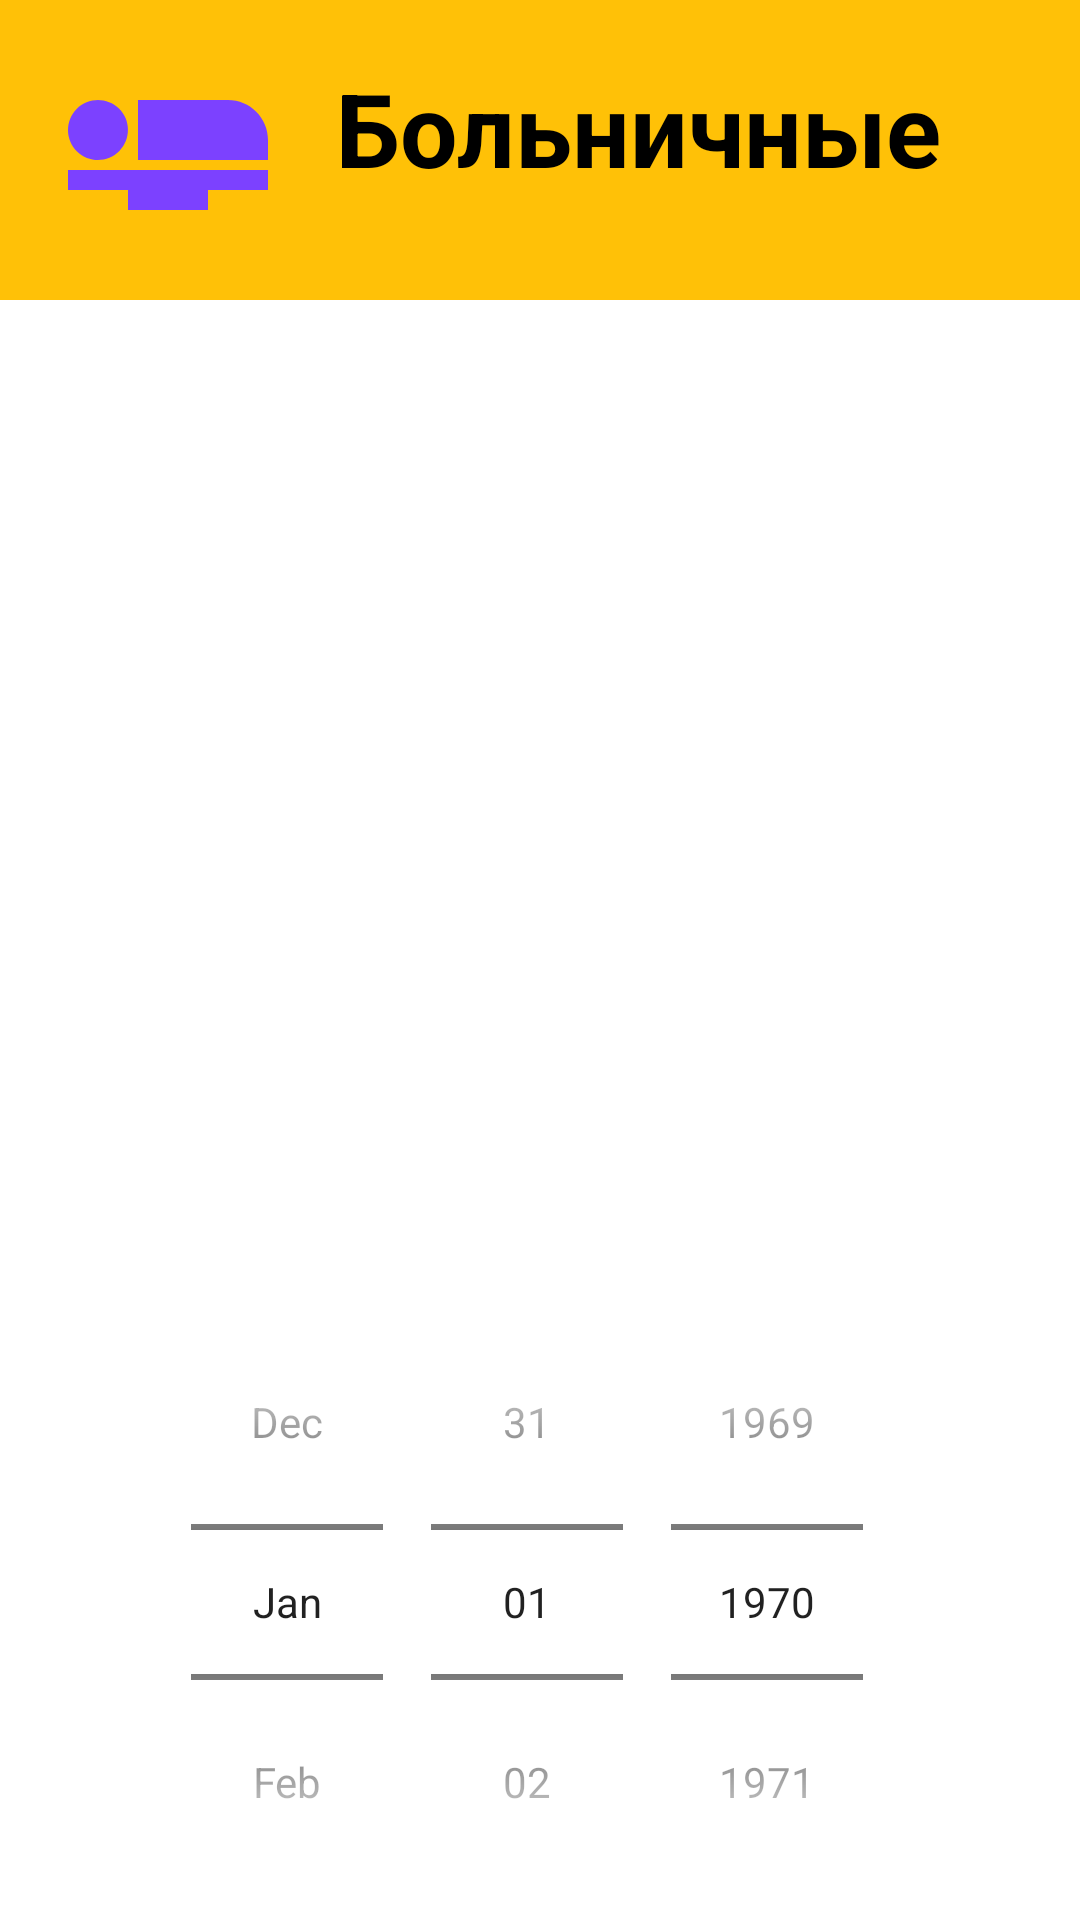

Screen size 1080×1920. Icon name, then its box in pixels as [left=x1, top=y1, right=x2, bottom=y2]:
bolnich: [left=68, top=100, right=268, bottom=210]
